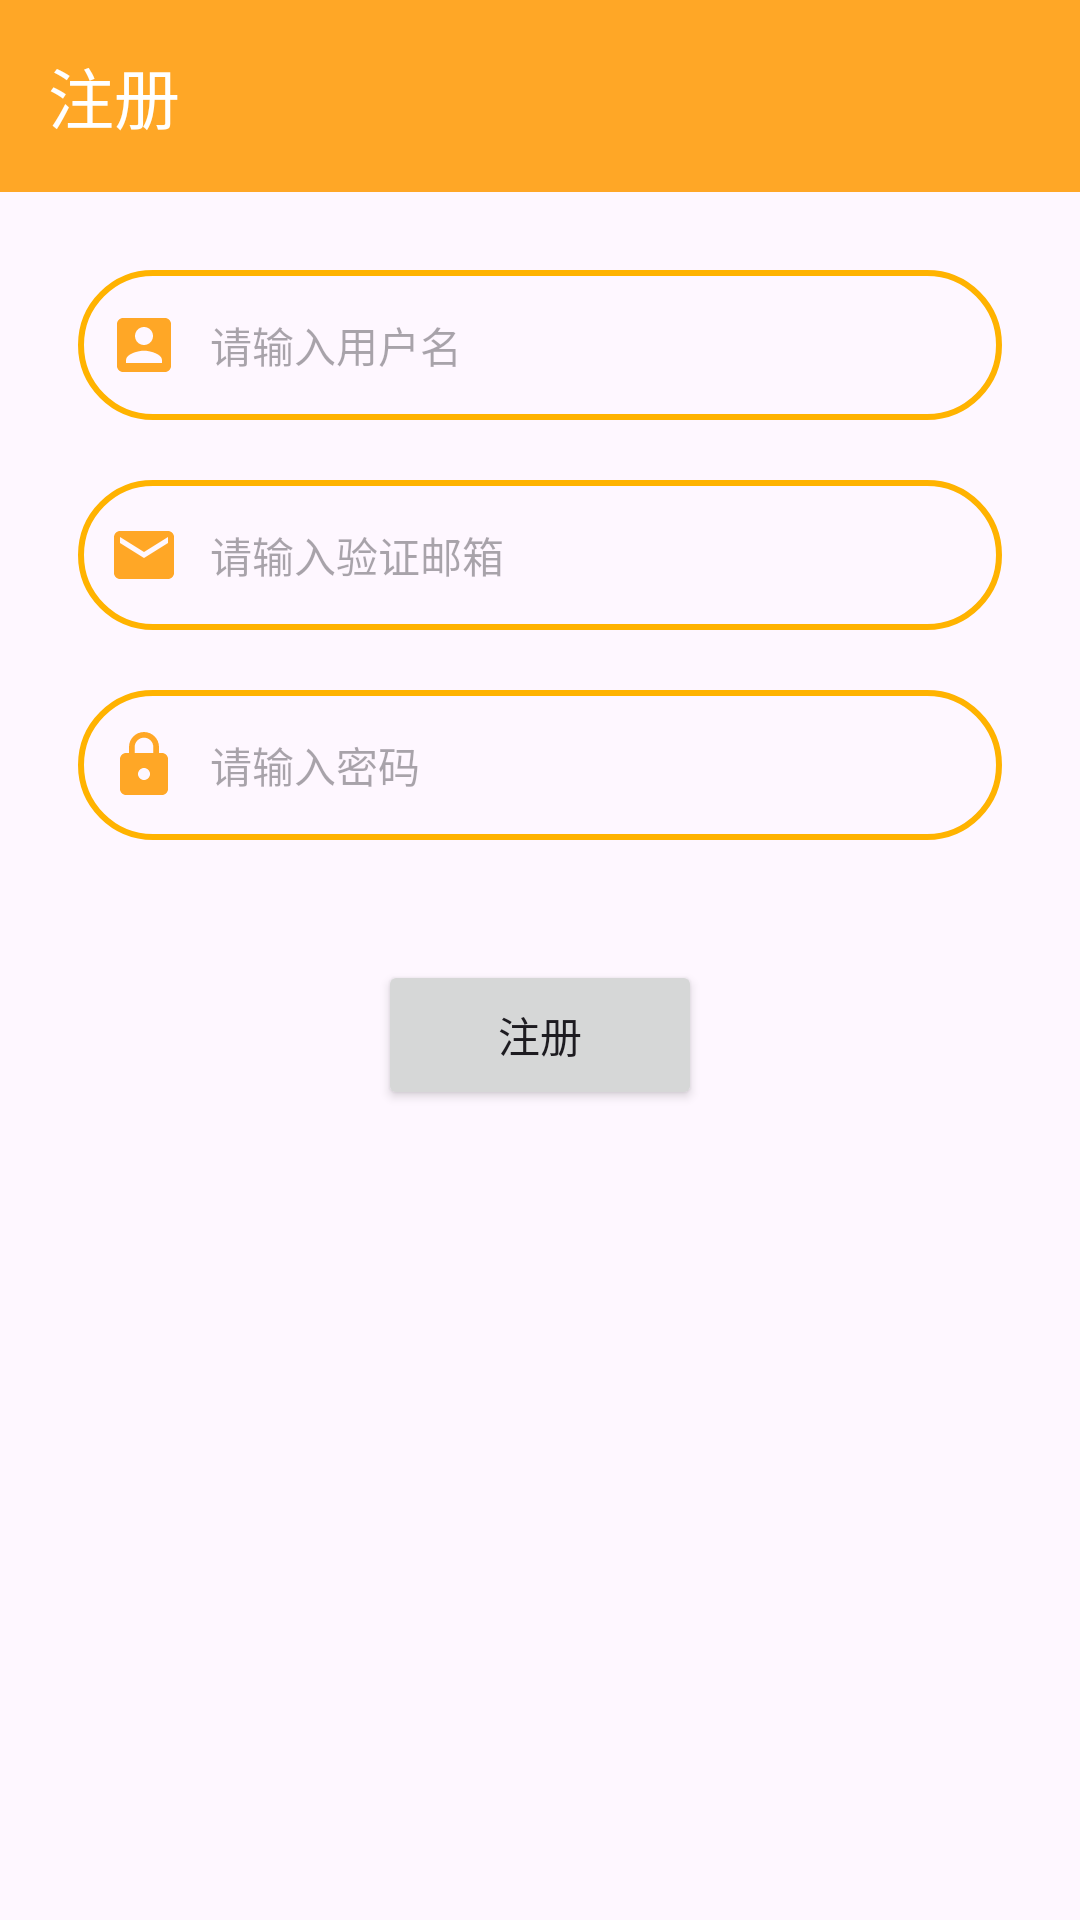

Screen size 1080 x 1920. Icon name, then its box in pixels as (x1, y1, x2, y2):
account box: (117, 318, 171, 372)
email: (114, 531, 174, 579)
lock: (120, 732, 168, 795)
